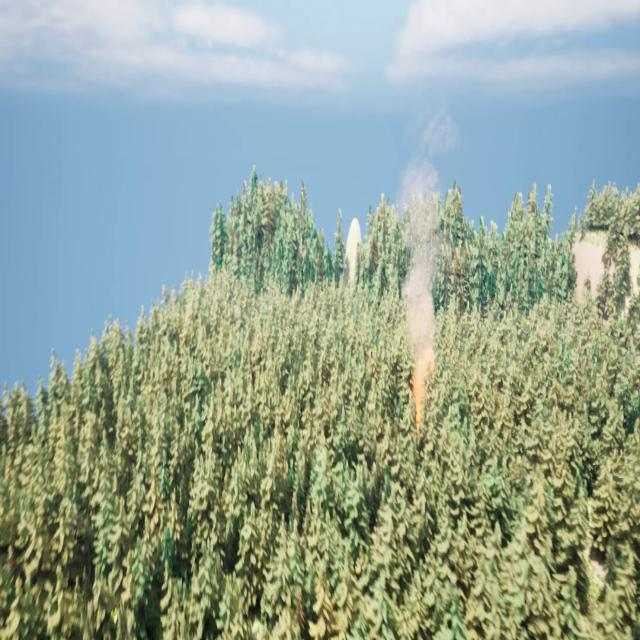smoke: (400, 98, 460, 428)
